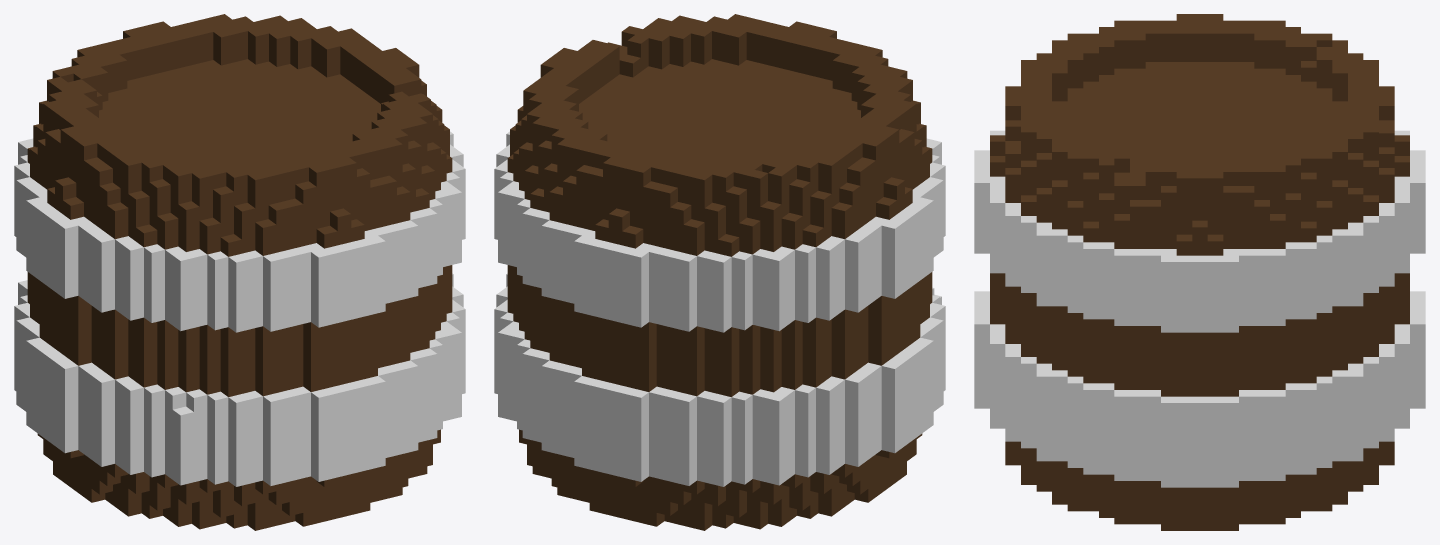
File: beczka1.fbx
3 views of the same model, side by side, from view 1: azimuth 30°, elevation 25°; view 2: azimuth 150°, elevation 25°; view 3: azimuth 270°, elevation 25° (orthographic).
Parts seen in each view (by area): view 1: Cylinder.042; view 2: Cylinder.042; view 3: Cylinder.042.
Part boxes in pixels (<box>): Cylinder.042: <box>14,14,465,530</box>; Cylinder.042: <box>494,14,945,530</box>; Cylinder.042: <box>974,14,1425,530</box>.
Size of the model in its own units: 236 by 203 by 236.
